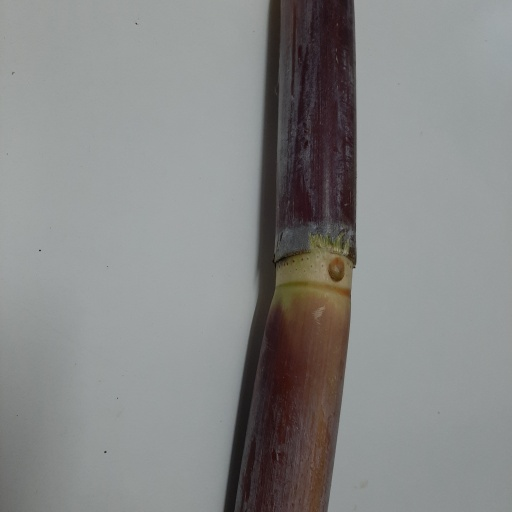Bud: (328, 255, 345, 283)
